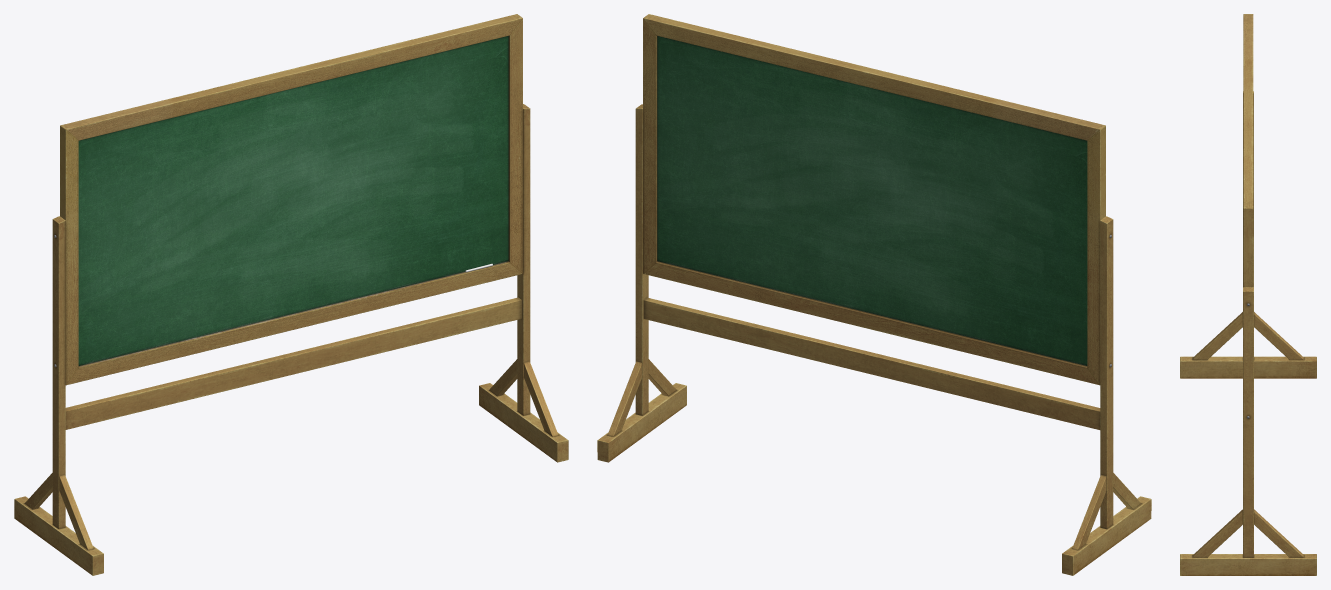
Rendered from 0717_Chalkboard.glb.
The picture shows the model from 3 angles, left to right: view 1: azimuth 30°, elevation 25°; view 2: azimuth 150°, elevation 25°; view 3: azimuth 270°, elevation 25°; orthographic projection. The views are drawn at different scales.
Visible parts, largest first — view 1: node_id30; view 2: node_id30; view 3: node_id30.
Part boxes in pixels (bbox=[...]): node_id30: bbox=[14, 14, 568, 575]; node_id30: bbox=[597, 14, 1151, 575]; node_id30: bbox=[1180, 14, 1316, 575].
Size of the model in its own units: 0.512 by 0.4295 by 0.1462.
Materials: 1 (1 with a texture image).
